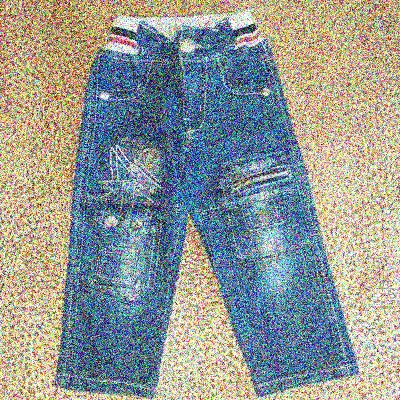Pants: (45, 10, 370, 392)
